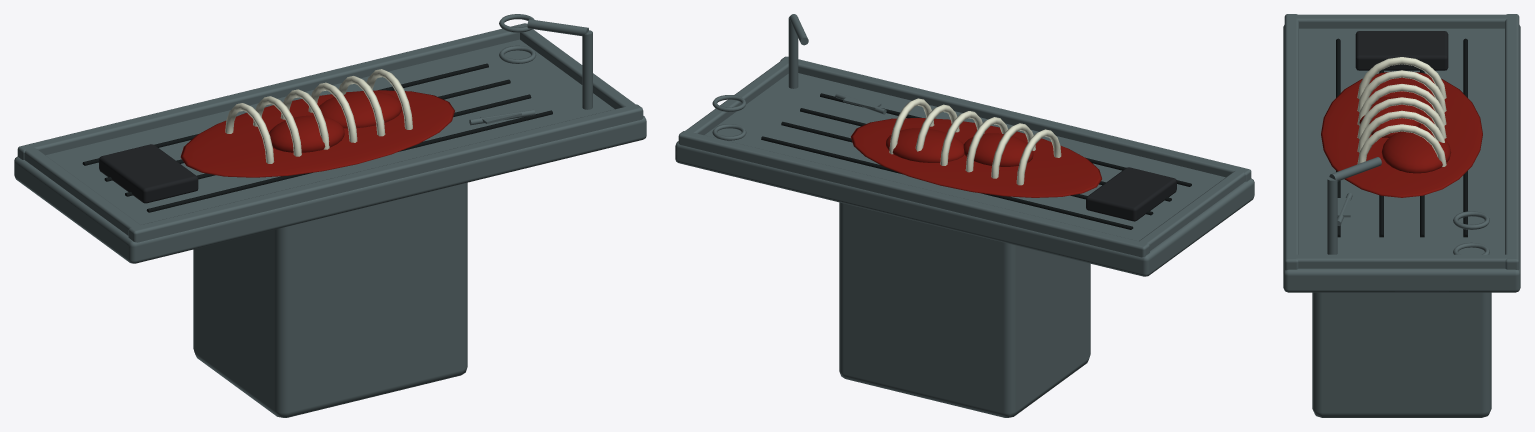
The model's file is AutopsyTable.obj.
The picture shows the model from 3 angles, left to right: view 1: azimuth 30°, elevation 25°; view 2: azimuth 150°, elevation 25°; view 3: azimuth 270°, elevation 25°; orthographic projection. The views are drawn at different scales.
Visible parts, largest first — view 1: AutopsyTable; view 2: AutopsyTable; view 3: AutopsyTable.
Boxes of the visible parts, x1,y1,x2,y2 form: AutopsyTable: (14,14,646,417); AutopsyTable: (675,14,1254,417); AutopsyTable: (1283,14,1520,417).
Size of the model in its own units: 2.05 by 1.18 by 0.82.
